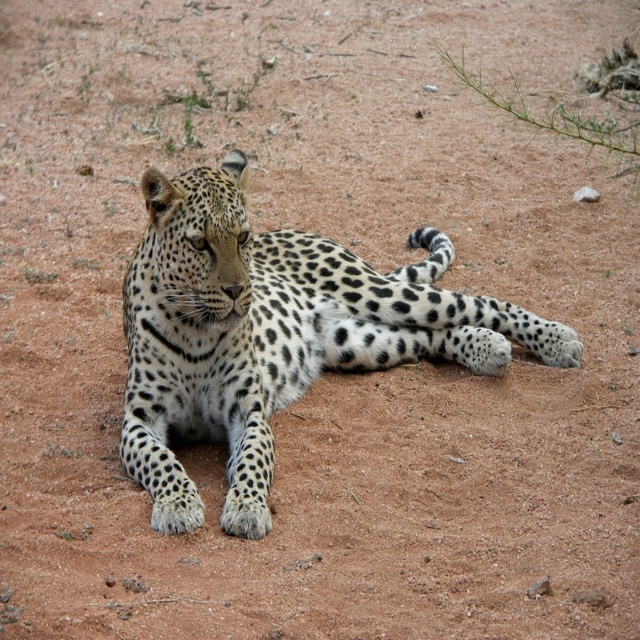Leopard: (115, 146, 586, 538)
